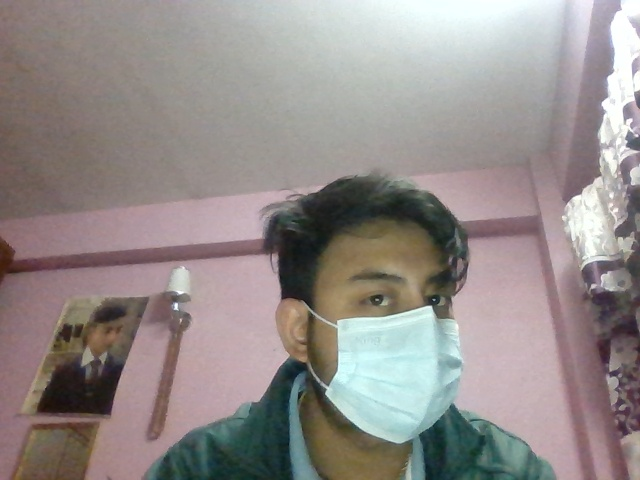mask: (282, 305, 494, 445)
